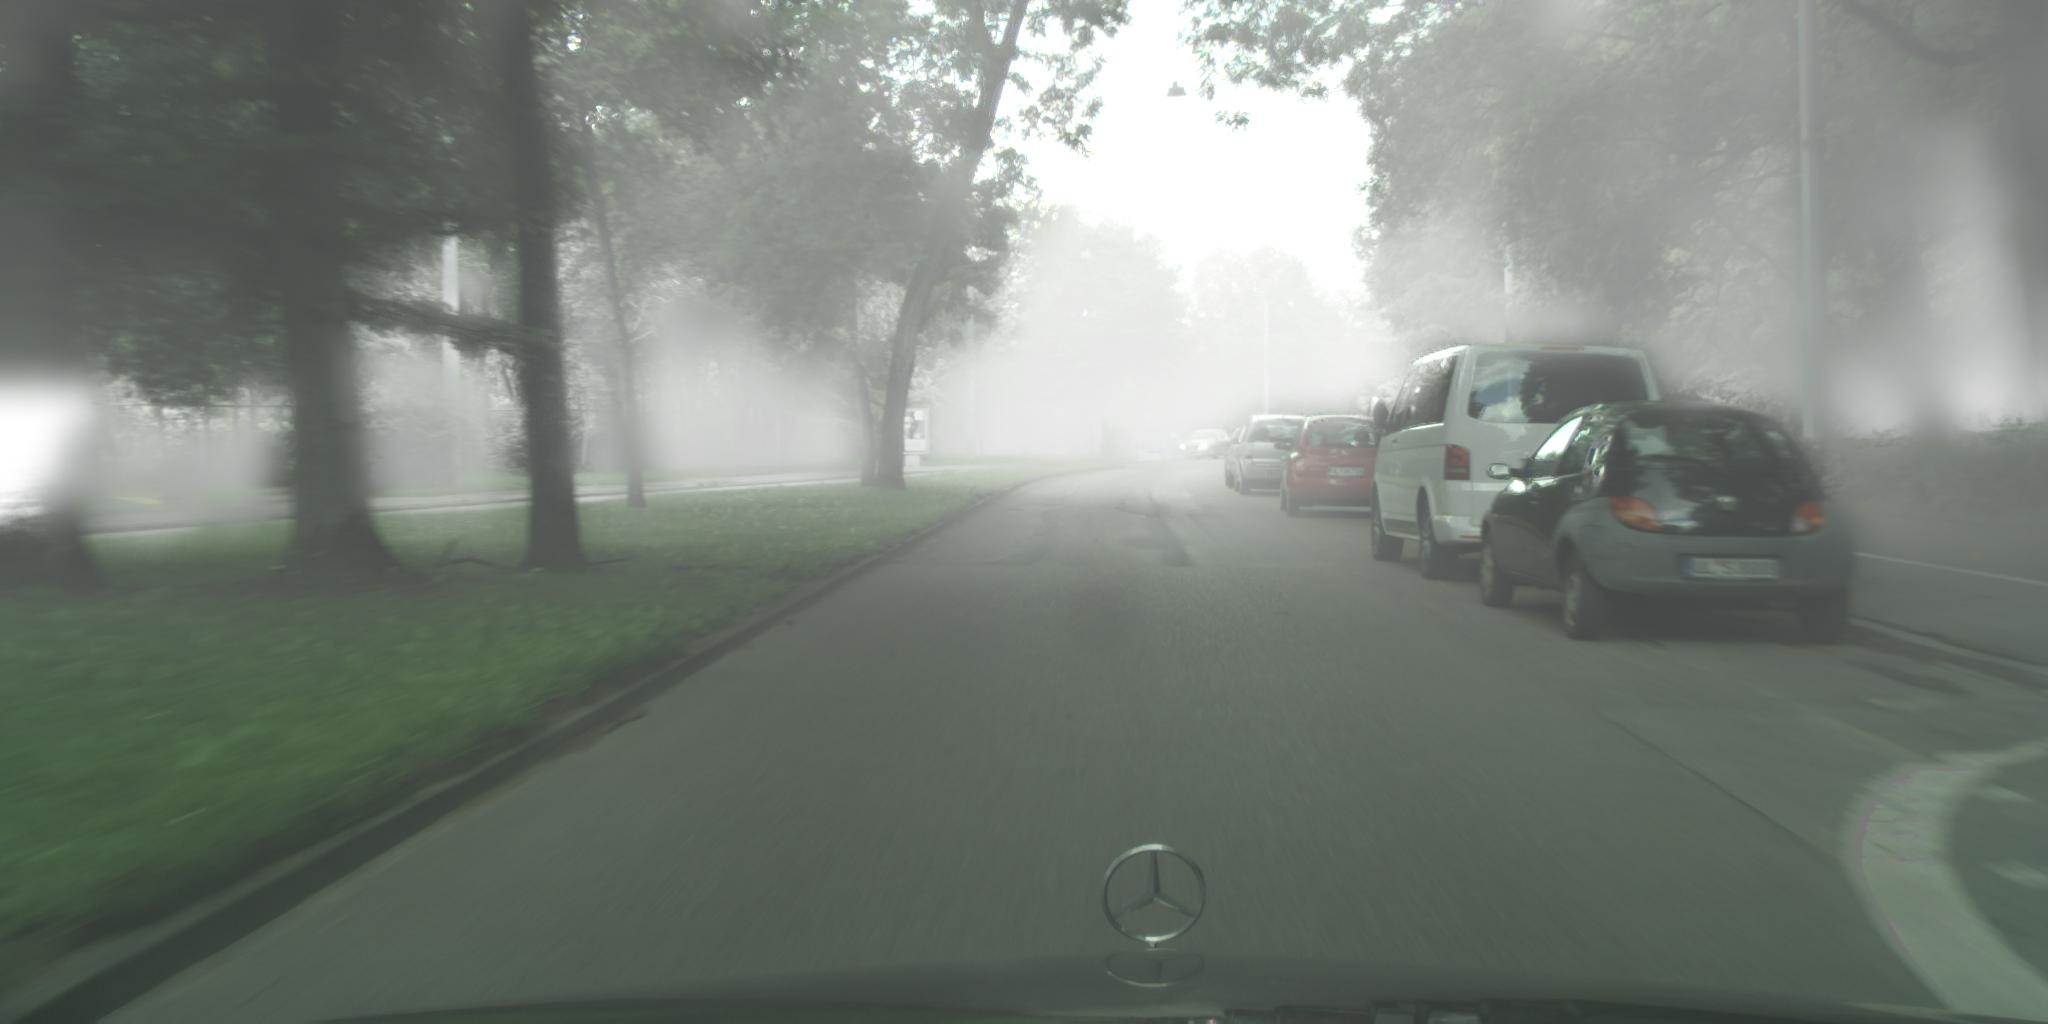car: (1477, 402, 1853, 645), (1370, 344, 1667, 584), (1273, 414, 1396, 521), (1179, 428, 1237, 462), (1140, 434, 1185, 462)
